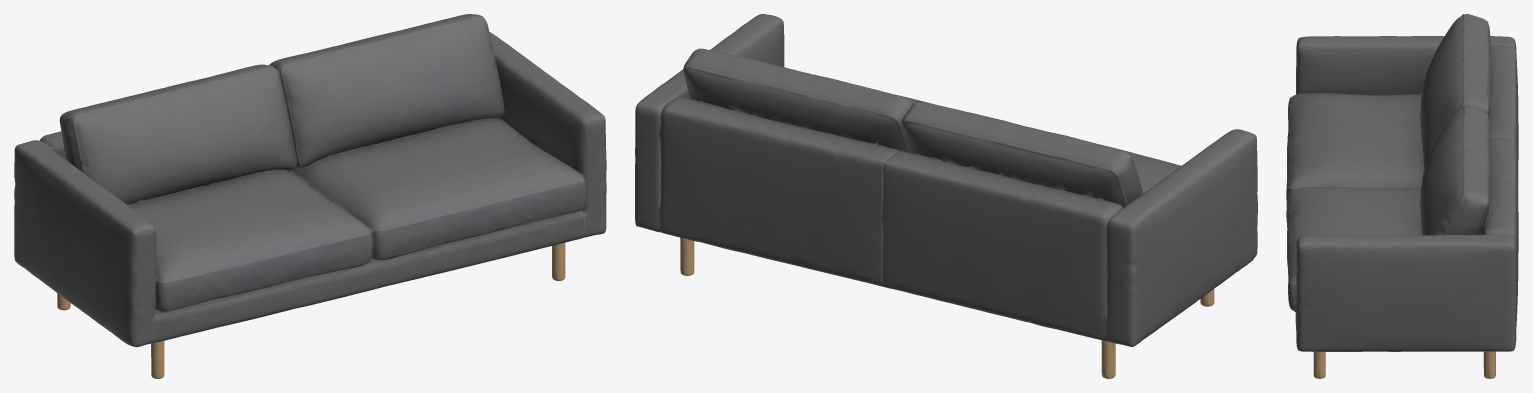
3 renders of one model, left to right at view 1: azimuth 30°, elevation 25°; view 2: azimuth 150°, elevation 25°; view 3: azimuth 270°, elevation 25°, orthographic. The views are drawn at different scales.
Visible parts, largest first — view 1: tripo_node_fa821592-c333-418f-9df5-695a3ff90406; view 2: tripo_node_fa821592-c333-418f-9df5-695a3ff90406; view 3: tripo_node_fa821592-c333-418f-9df5-695a3ff90406.
Part boxes in pixels (bbox=[...]): tripo_node_fa821592-c333-418f-9df5-695a3ff90406: bbox=[14, 14, 606, 378]; tripo_node_fa821592-c333-418f-9df5-695a3ff90406: bbox=[635, 14, 1257, 378]; tripo_node_fa821592-c333-418f-9df5-695a3ff90406: bbox=[1286, 14, 1518, 378].
Size of the model in its own units: 1.93 by 0.78 by 0.8847.
Materials: 2 (1 with a texture image).
